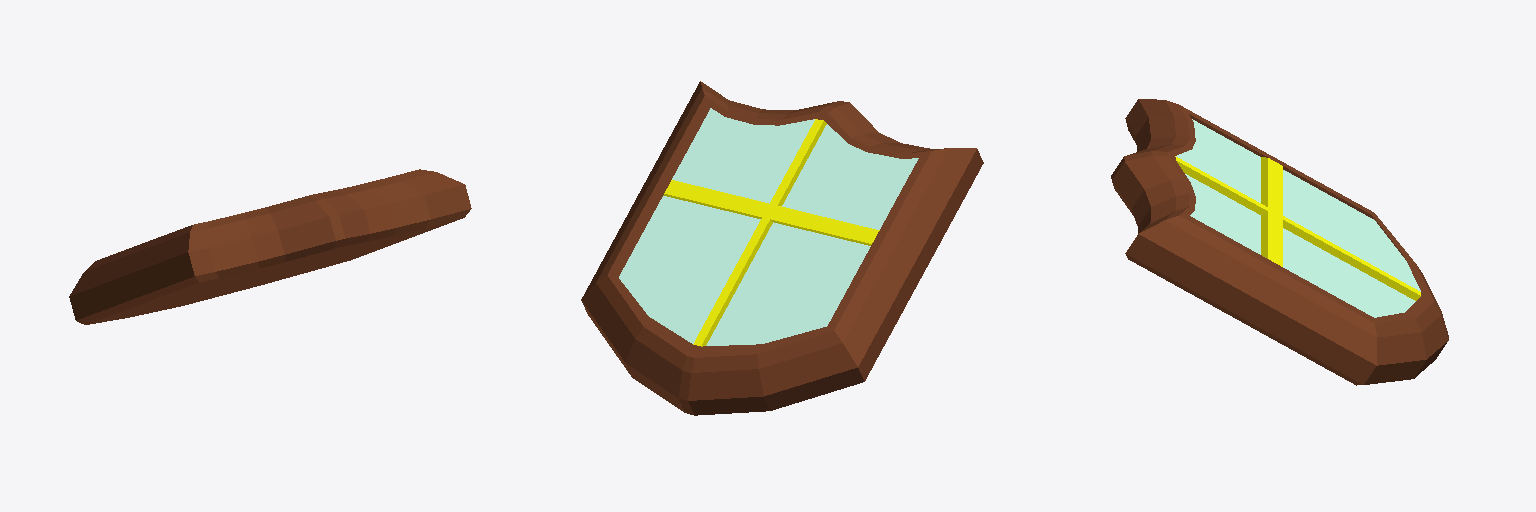
Rendered from escudo.obj.
The picture shows the model from 3 angles: view 1: azimuth 30°, elevation 25°; view 2: azimuth 150°, elevation 25°; view 3: azimuth 270°, elevation 25°; orthographic projection.
Parts seen in each view (by area): view 1: polySurface6_polySurface1; view 2: polySurface6_polySurface1; view 3: polySurface6_polySurface1.
Part boxes in pixels (x1,y1,x2,y2): polySurface6_polySurface1: (69, 169, 471, 324); polySurface6_polySurface1: (581, 81, 983, 415); polySurface6_polySurface1: (1111, 99, 1448, 385).
Bounding box in the file's own units: 1.4 × 0.9948 × 1.48.